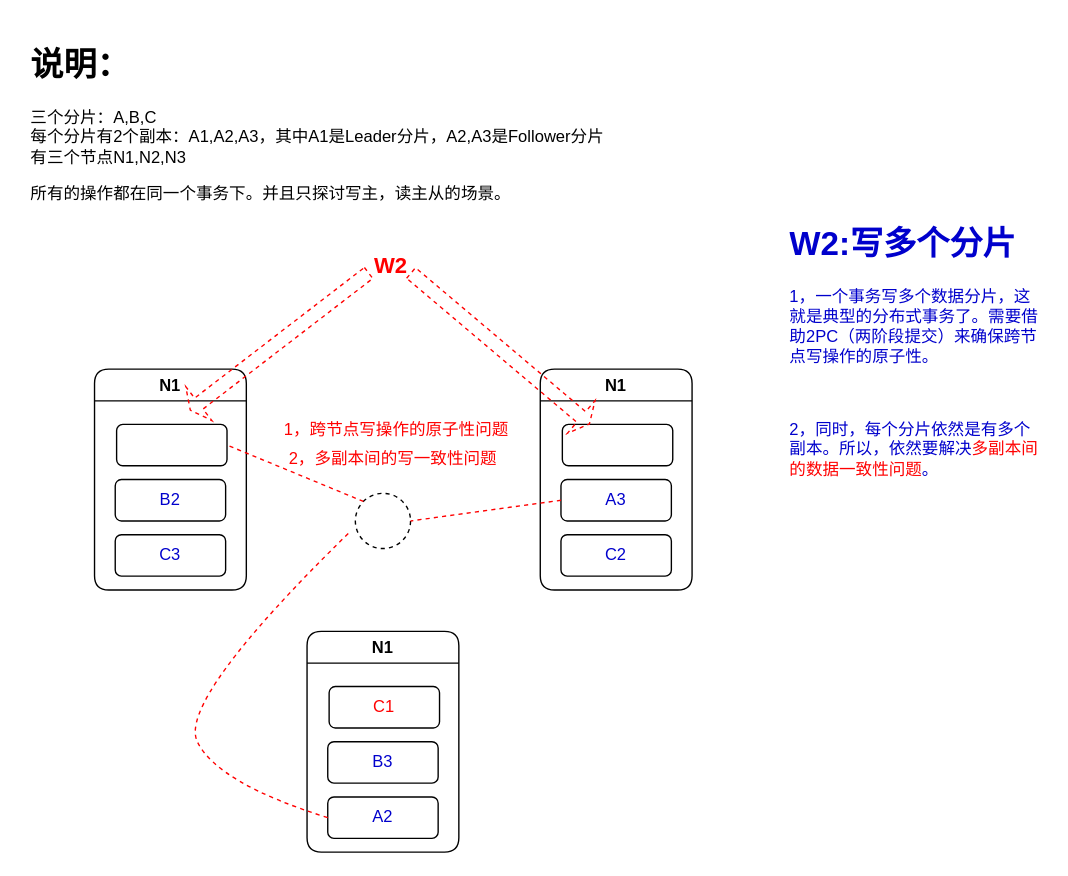
Some shapes in this 1068 by 876 pixel diagram are drawn without their labels. The centre of each missing label's shape, as x and y in pixels:
"A1" goes at point 171,444.
"B1" goes at point 617,444.
"网络" goes at point 382,520.
